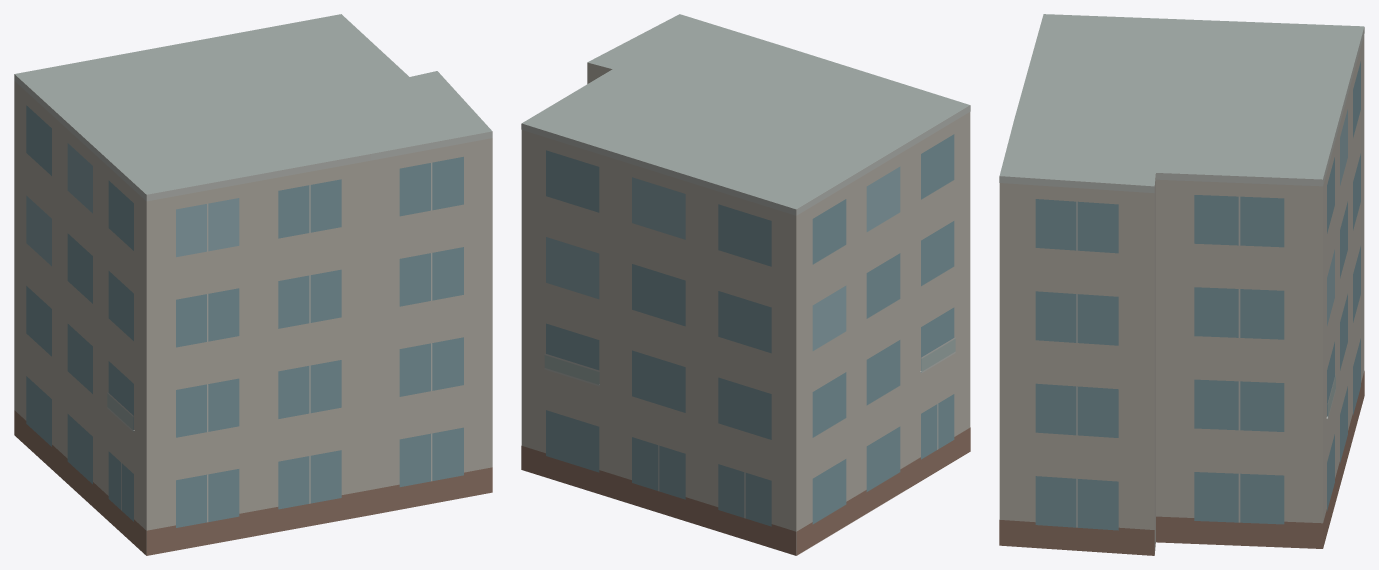
File: survey-upis-32626950.glb
3 views of the same model, side by side, from view 1: azimuth 30°, elevation 25°; view 2: azimuth 150°, elevation 25°; view 3: azimuth 270°, elevation 25° (orthographic). The views are drawn at different scales.
Visible parts, largest first — view 1: survey-upis-32626950.tmp; view 2: survey-upis-32626950.tmp; view 3: survey-upis-32626950.tmp.
Part boxes in pixels (left/top/right/bottom): survey-upis-32626950.tmp: left=14, top=14, right=492, bottom=555; survey-upis-32626950.tmp: left=521, top=14, right=970, bottom=555; survey-upis-32626950.tmp: left=999, top=14, right=1364, bottom=555.
Bounding box in the file's own units: 13.22 × 13.2 × 11.83.
